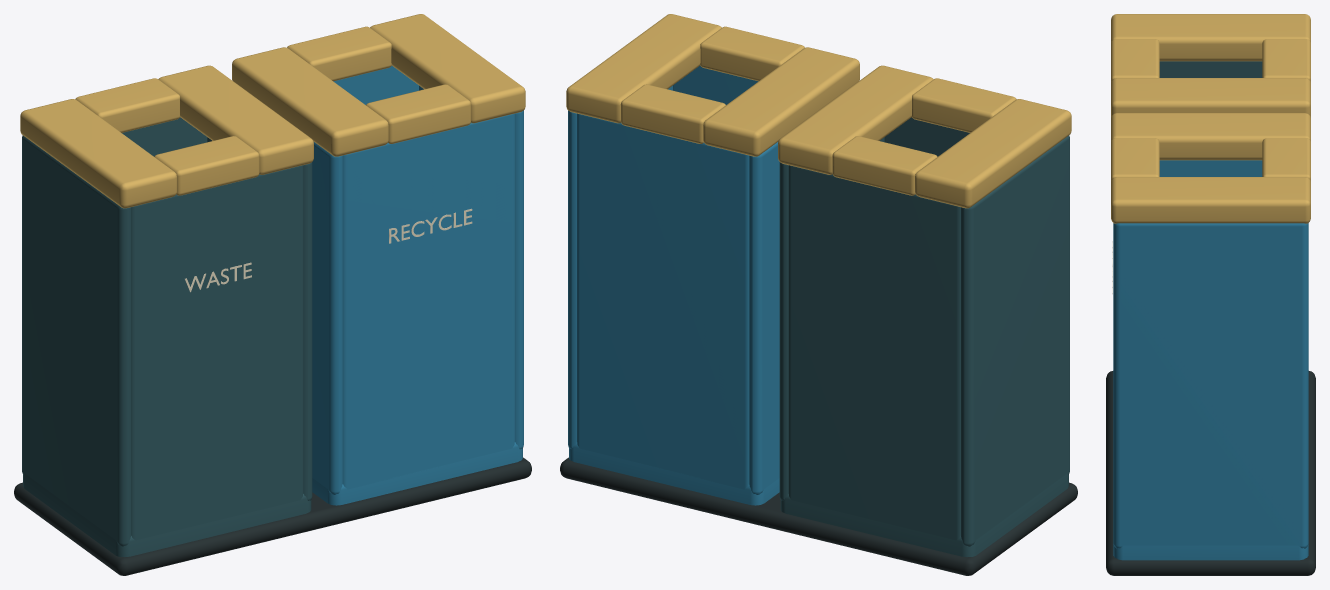
The model's file is HotelTogether-SortingBin.glb.
3 renders of one model, left to right at view 1: azimuth 30°, elevation 25°; view 2: azimuth 150°, elevation 25°; view 3: azimuth 270°, elevation 25°, orthographic. The views are drawn at different scales.
Visible parts, largest first — view 1: Bin_FrontBack.002, Bin_FrontBack, Bin_Side, Bin_Side.002, Bin_SharedFoot, Bin_LidSide, Bin_LidSide.002, Bin_LidSide.003, Bin_LidSide.001, Bin_Bottom, Bin_LidFrontBack.002, Bin_LidFrontBack (+7 smaller); view 2: Bin_FrontBack.003, Bin_FrontBack.001, Bin_Side, Bin_Side.002, Bin_SharedFoot, Bin_LidSide, Bin_LidSide.002, Bin_LidSide.003, Bin_LidSide.001, Bin_Bottom, Bin_LidFrontBack.003, Bin_LidFrontBack.001 (+7 smaller); view 3: Bin_Side.003, Bin_LidSide.003, Bin_LidSide, Bin_LidSide.002, Bin_LidSide.001, Bin_SharedFoot, Bin_Bottom.001, Bin_LidFrontBack, Bin_LidFrontBack.001, Bin_LidFrontBack.002, Bin_LidFrontBack.003, Bin_Side (+1 smaller).
Part boxes in pixels (x1,y1,x2,y2): Bin_FrontBack.002: (342,113,514,489); Bin_FrontBack: (131,165,303,540); Bin_Side: (22,135,130,546); Bin_Side.002: (312,142,342,494); Bin_SharedFoot: (14,457,531,575); Bin_LidSide: (20,99,176,208); Bin_LidSide.002: (232,47,388,156); Bin_LidSide.003: (370,14,525,123); Bin_LidSide.001: (158,65,313,174); Bin_Bottom: (23,473,311,557); Bin_LidFrontBack.002: (366,84,471,143); Bin_LidFrontBack: (154,136,259,195); Bin_FrontBack.003: (577,113,749,489); Bin_FrontBack.001: (788,165,960,540); Bin_Side: (961,135,1069,546); Bin_Side.002: (749,142,779,494); Bin_SharedFoot: (560,457,1077,575); Bin_LidSide: (915,99,1071,208); Bin_LidSide.002: (703,47,859,156); Bin_LidSide.003: (566,14,721,123); Bin_LidSide.001: (778,65,933,174); Bin_Bottom: (780,473,1068,557); Bin_LidFrontBack.003: (620,84,725,143); Bin_LidFrontBack.001: (832,136,937,195); Bin_Side.003: (1113,223,1308,548); Bin_LidSide.003: (1111,177,1310,223); Bin_LidSide: (1111,14,1310,61); Bin_LidSide.002: (1111,113,1310,160); Bin_LidSide.001: (1111,78,1310,117); Bin_SharedFoot: (1106,371,1315,575); Bin_Bottom.001: (1113,543,1308,560); Bin_LidFrontBack: (1111,39,1159,82); Bin_LidFrontBack.001: (1262,39,1310,82); Bin_LidFrontBack.002: (1111,138,1159,181); Bin_LidFrontBack.003: (1262,138,1310,181); Bin_Side: (1159,61,1262,77).
Bounding box in the file's own units: 0.94 × 0.8475 × 0.43.
